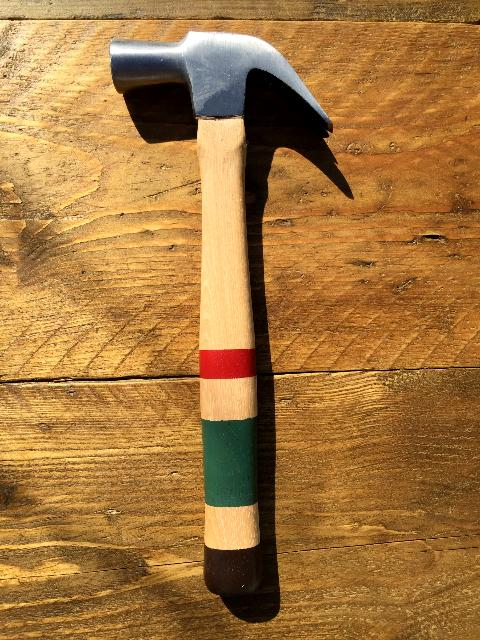hammer: (98, 21, 350, 562)
